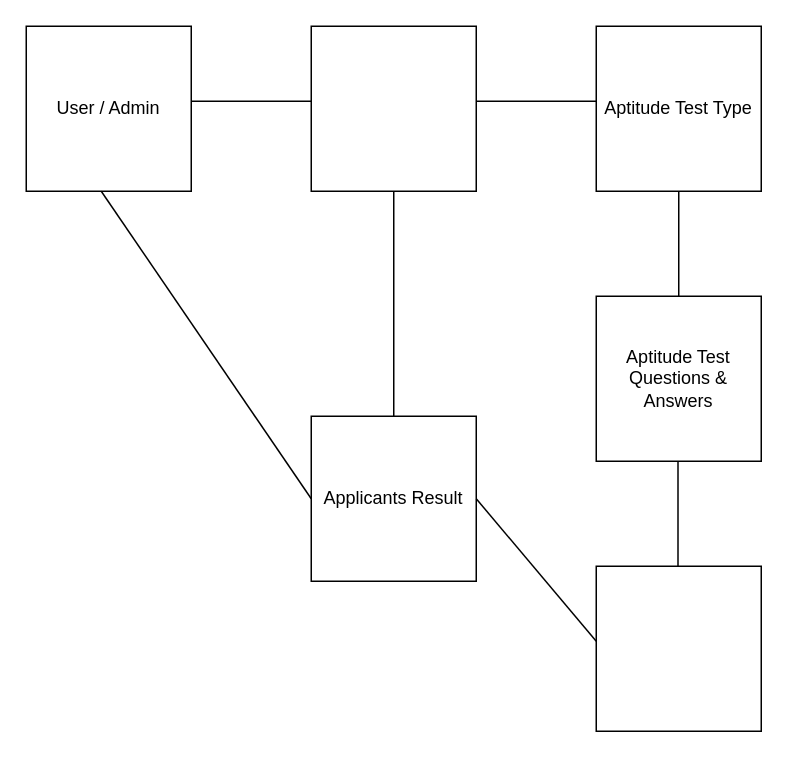
The diagram is 788 pixels wide and 758 high, and some of its shapes have lost their labels. Here are the shapes that lost their labels. From the top down, the box of each, then its label:
(310, 25, 476, 191): Aptitude Test ID
(595, 565, 761, 731): Applicants Answers
